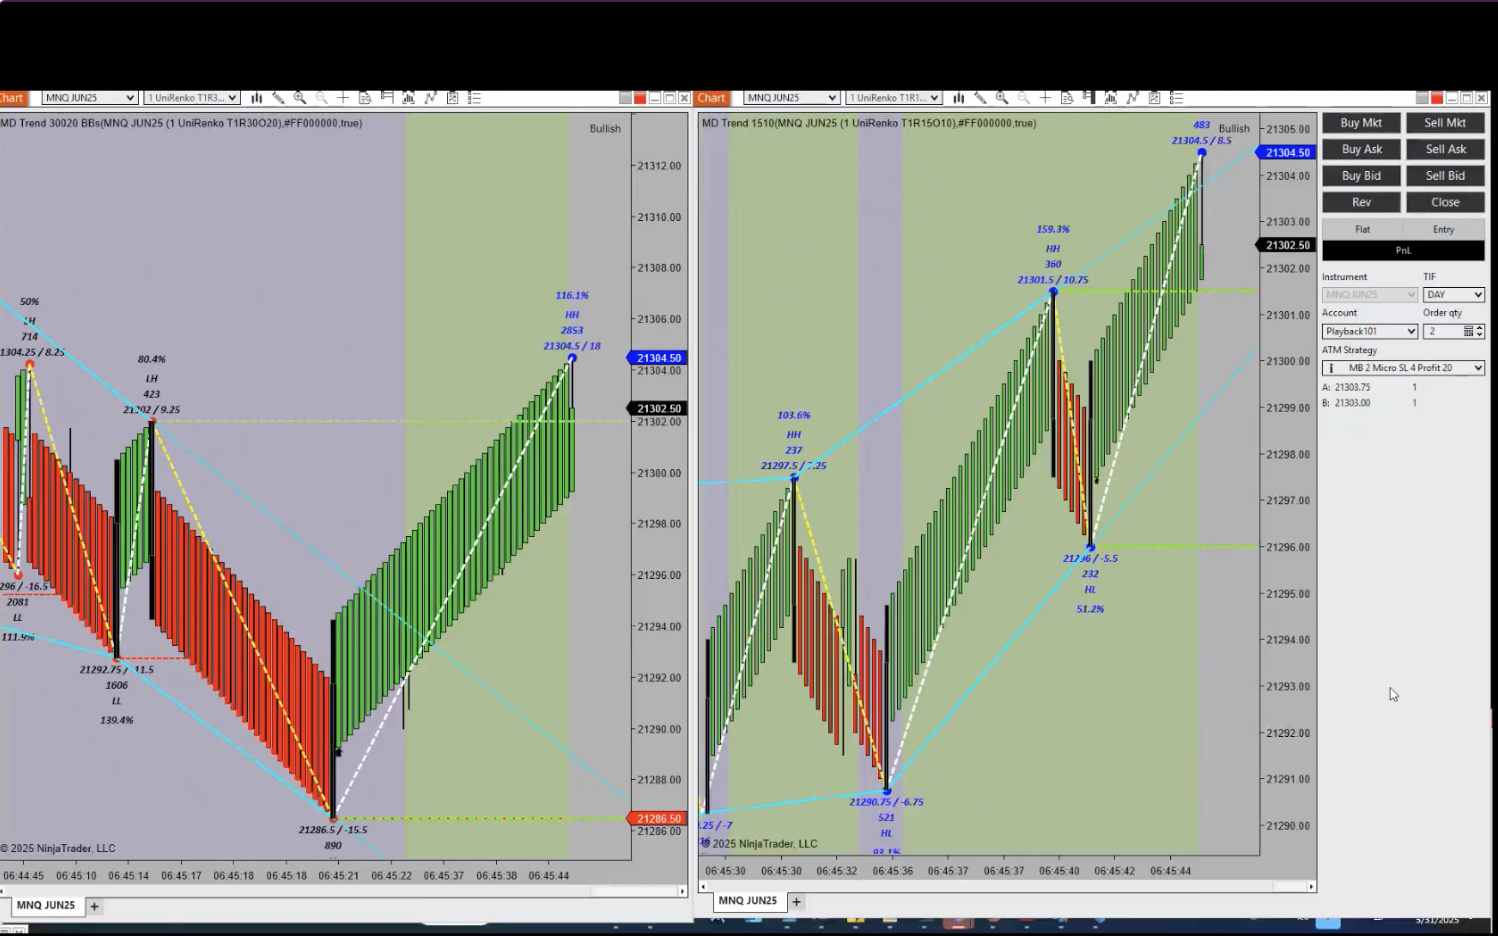candle: (149, 422, 156, 627), (113, 462, 121, 663), (329, 622, 336, 824), (884, 606, 891, 793), (1052, 295, 1057, 482), (1088, 362, 1094, 549), (705, 642, 711, 818), (792, 479, 796, 674)
